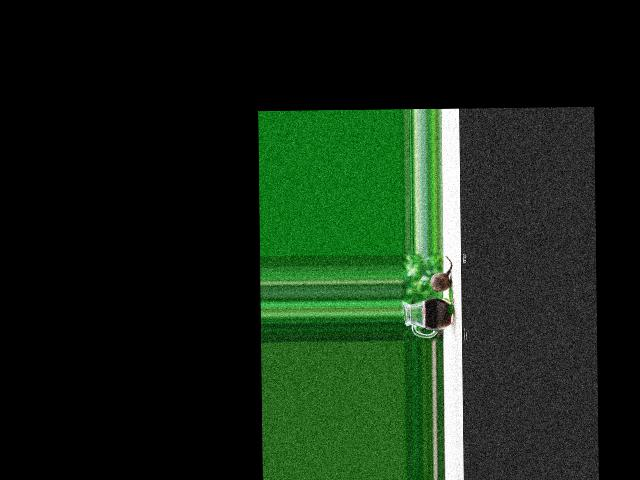beet: (430, 256, 453, 292)
